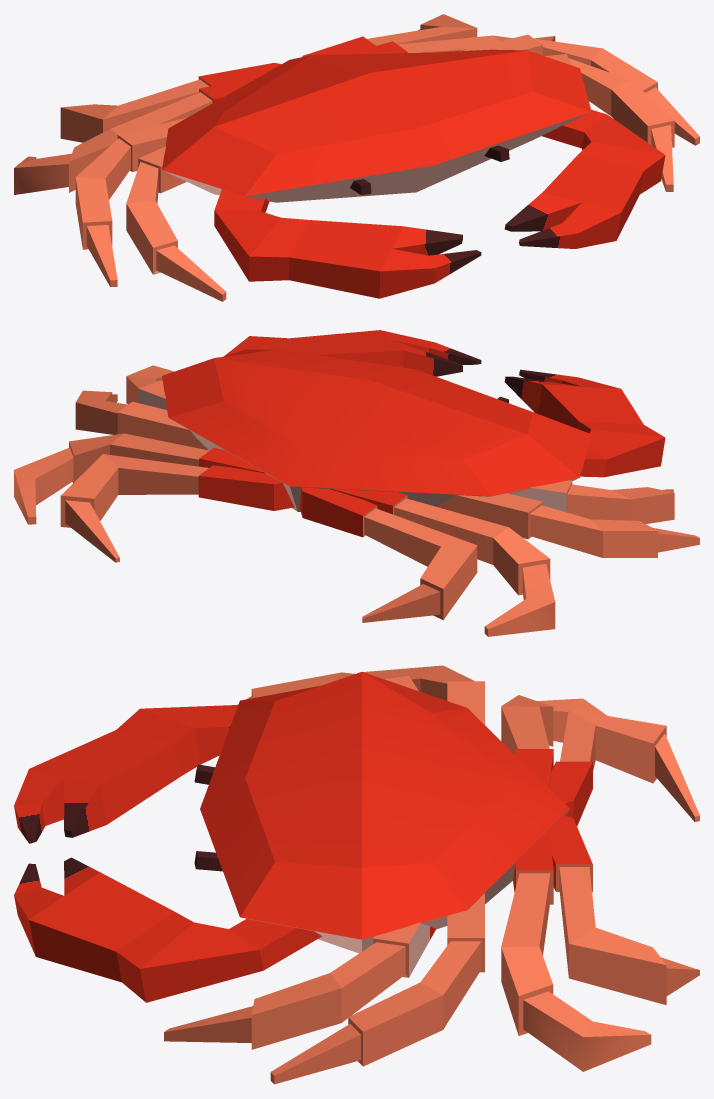
The model's file is Crab.glb.
3 views of the same model, one above another, from view 1: azimuth 30°, elevation 25°; view 2: azimuth 150°, elevation 25°; view 3: azimuth 270°, elevation 25° (orthographic). The views are drawn at different scales.
Parts seen in each view (by area): view 1: Geo_Crab; view 2: Geo_Crab; view 3: Geo_Crab.
Boxes of the visible parts, bbox=[...] form: Geo_Crab: bbox=[14, 14, 699, 301]; Geo_Crab: bbox=[14, 330, 699, 636]; Geo_Crab: bbox=[14, 665, 699, 1084].
Size of the model in its own units: 100 by 19.42 by 78.77.
Materials: 1 (1 with a texture image).
